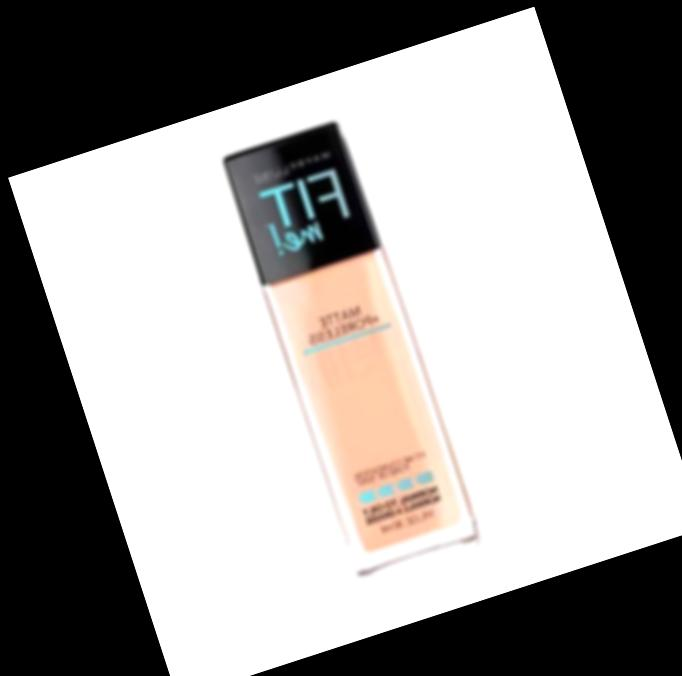cosmetic: (219, 118, 477, 586)
